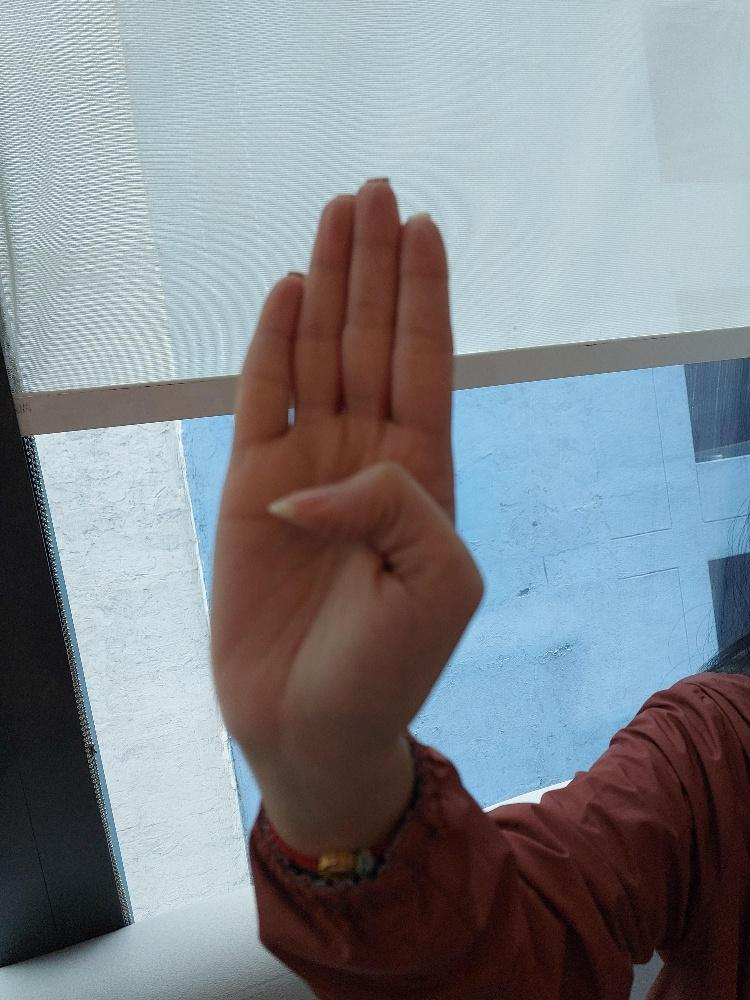a: (206, 171, 489, 761)
